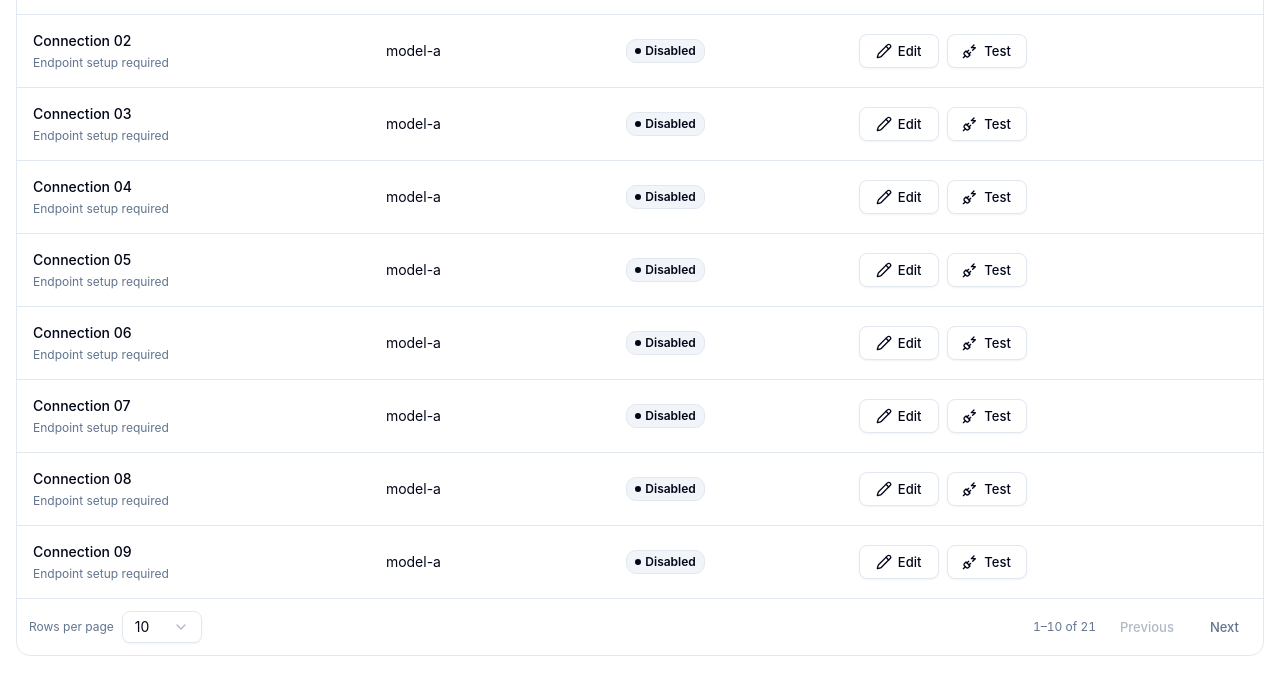
paginates connections and resets pagination when filtering
(page scrolled)
Click the button "Next": (1224, 627) [1198, 611, 1251, 643]
(page scrolled)
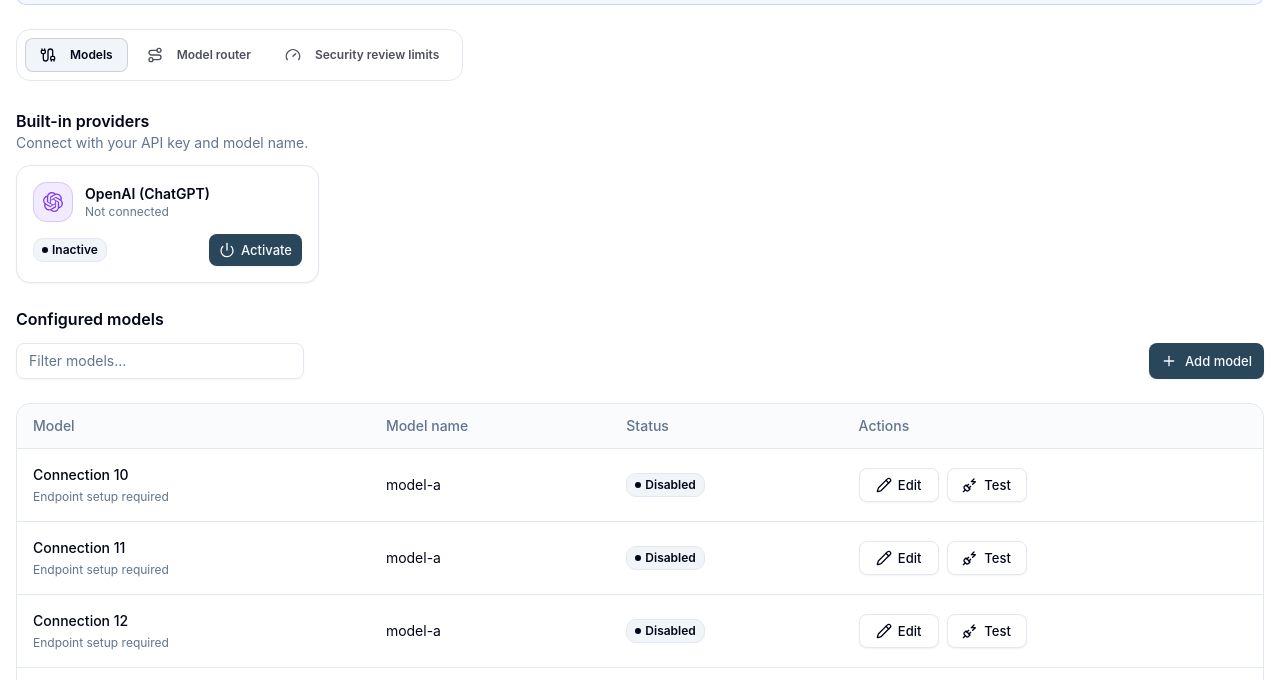
Check: the cell "Connection 10 Endpoint setup required" is shown, box [17, 448, 370, 521]
In the field labelled "Filter models…": (160, 361) [16, 343, 304, 379], type "Connection 20"
(page scrolled)
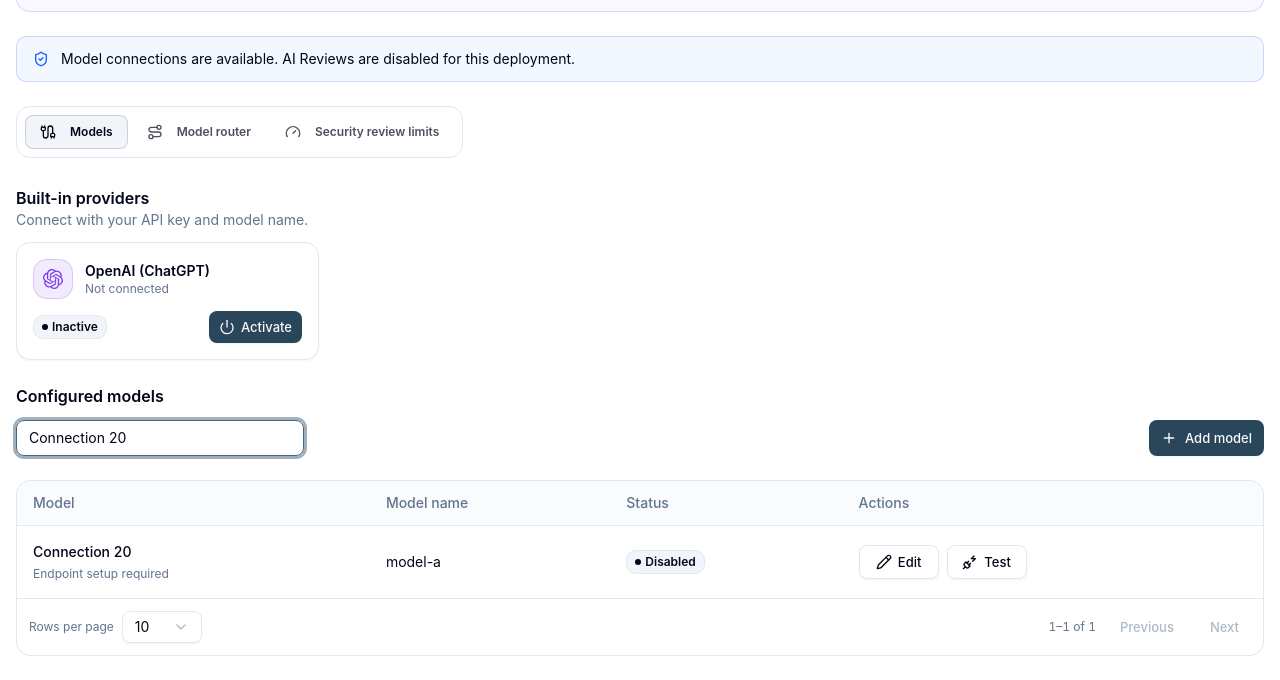
Check: the cell "Connection 20 Endpoint setup required" is shown, box [17, 525, 370, 598]
